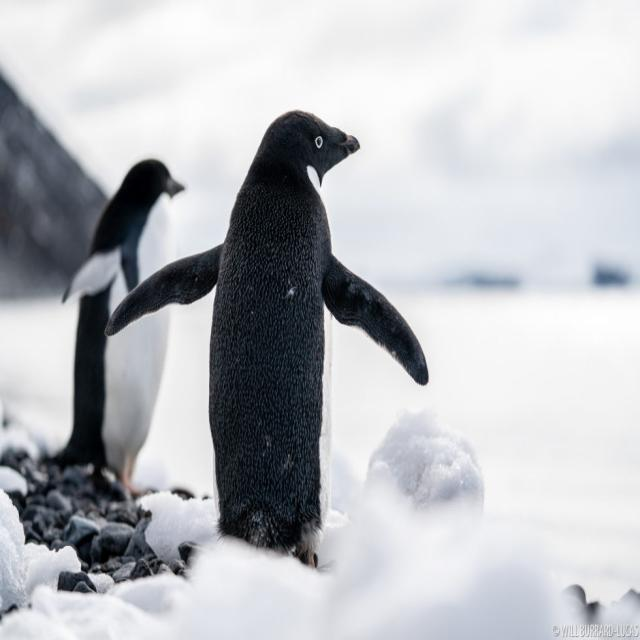Penguins: (194, 73, 364, 575), (66, 147, 184, 515)
